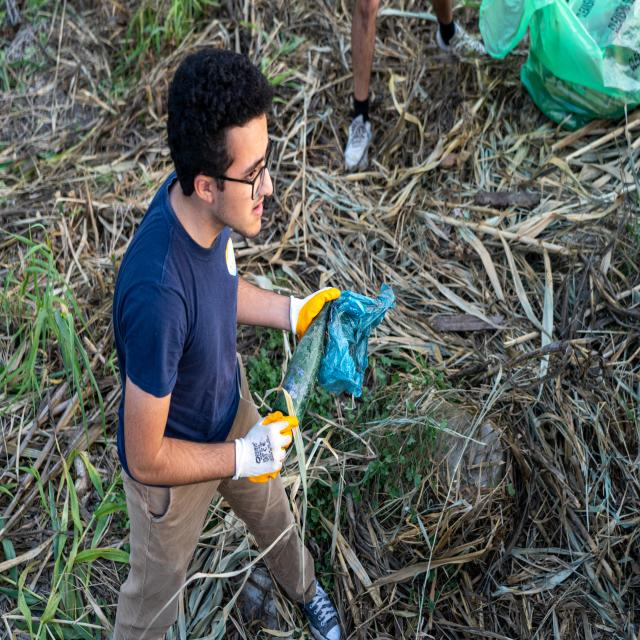Bottle: (270, 289, 337, 423)
Other plastic: (319, 281, 394, 397)
Plastic bag - wrapper: (478, 0, 640, 130)
